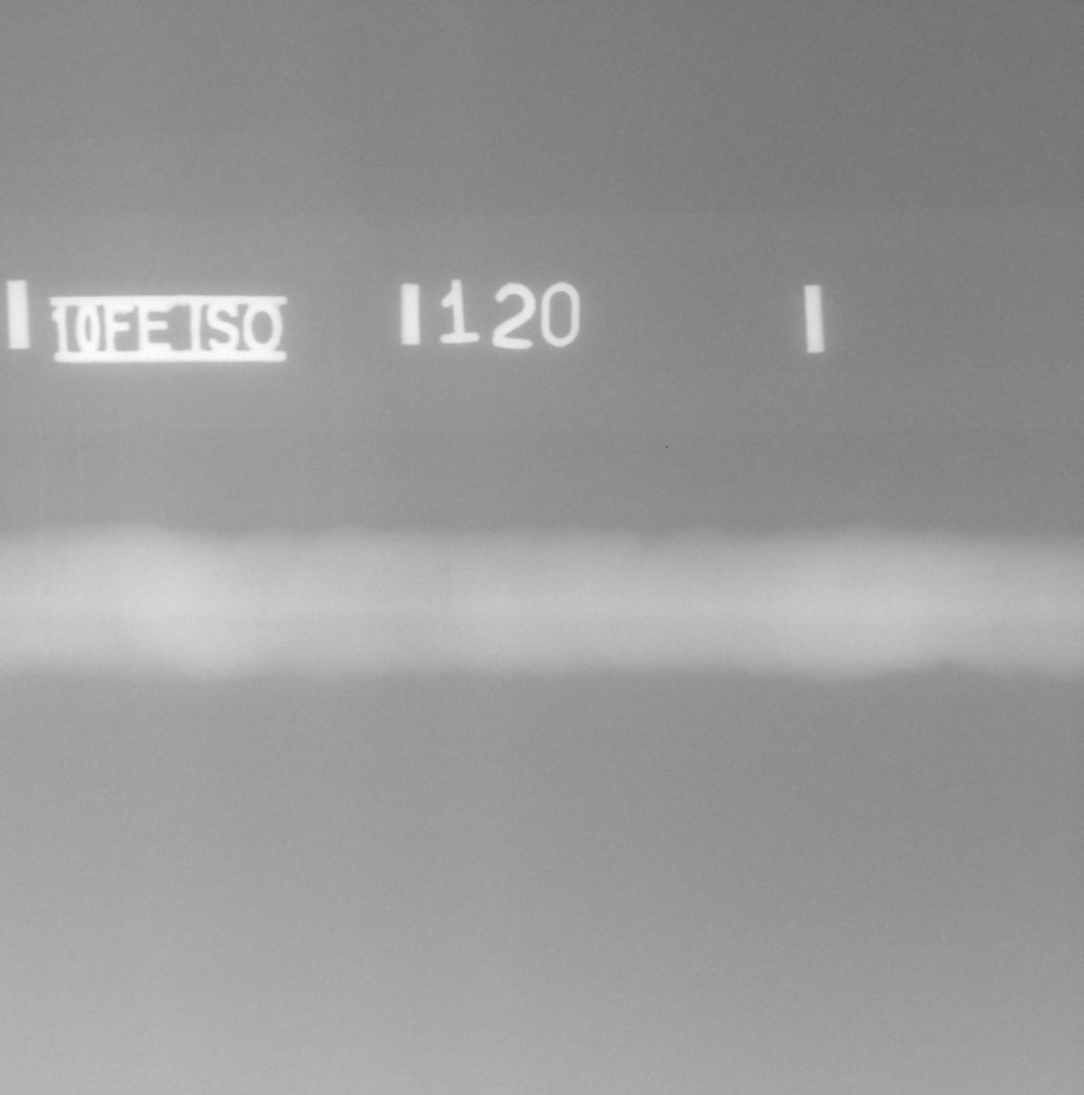Pore/Porosity: (382, 566, 390, 574)
